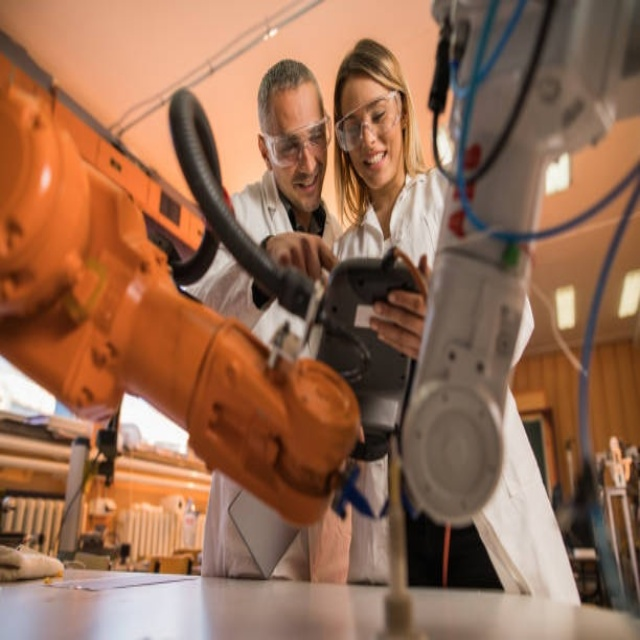Gafas: (336, 93, 401, 154), (263, 115, 331, 168)
Sin_guantes: (368, 253, 431, 360), (265, 230, 337, 287)
Sin_mascara: (361, 144, 392, 188), (291, 171, 319, 204)
